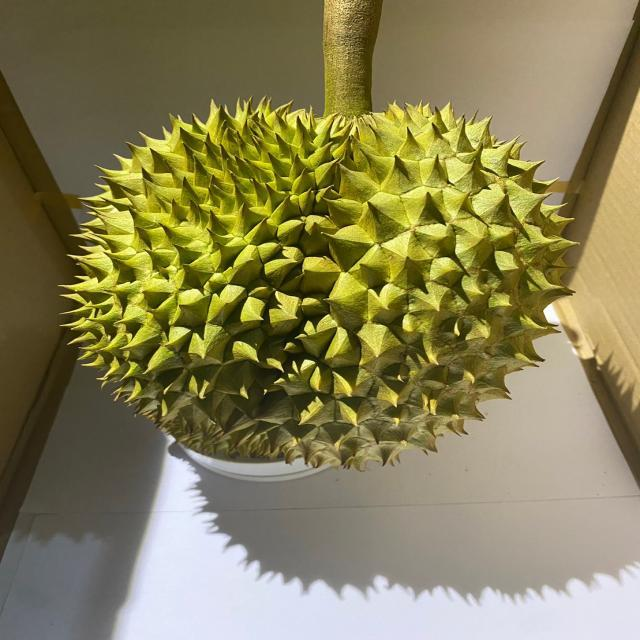immature: (60, 97, 582, 464)
